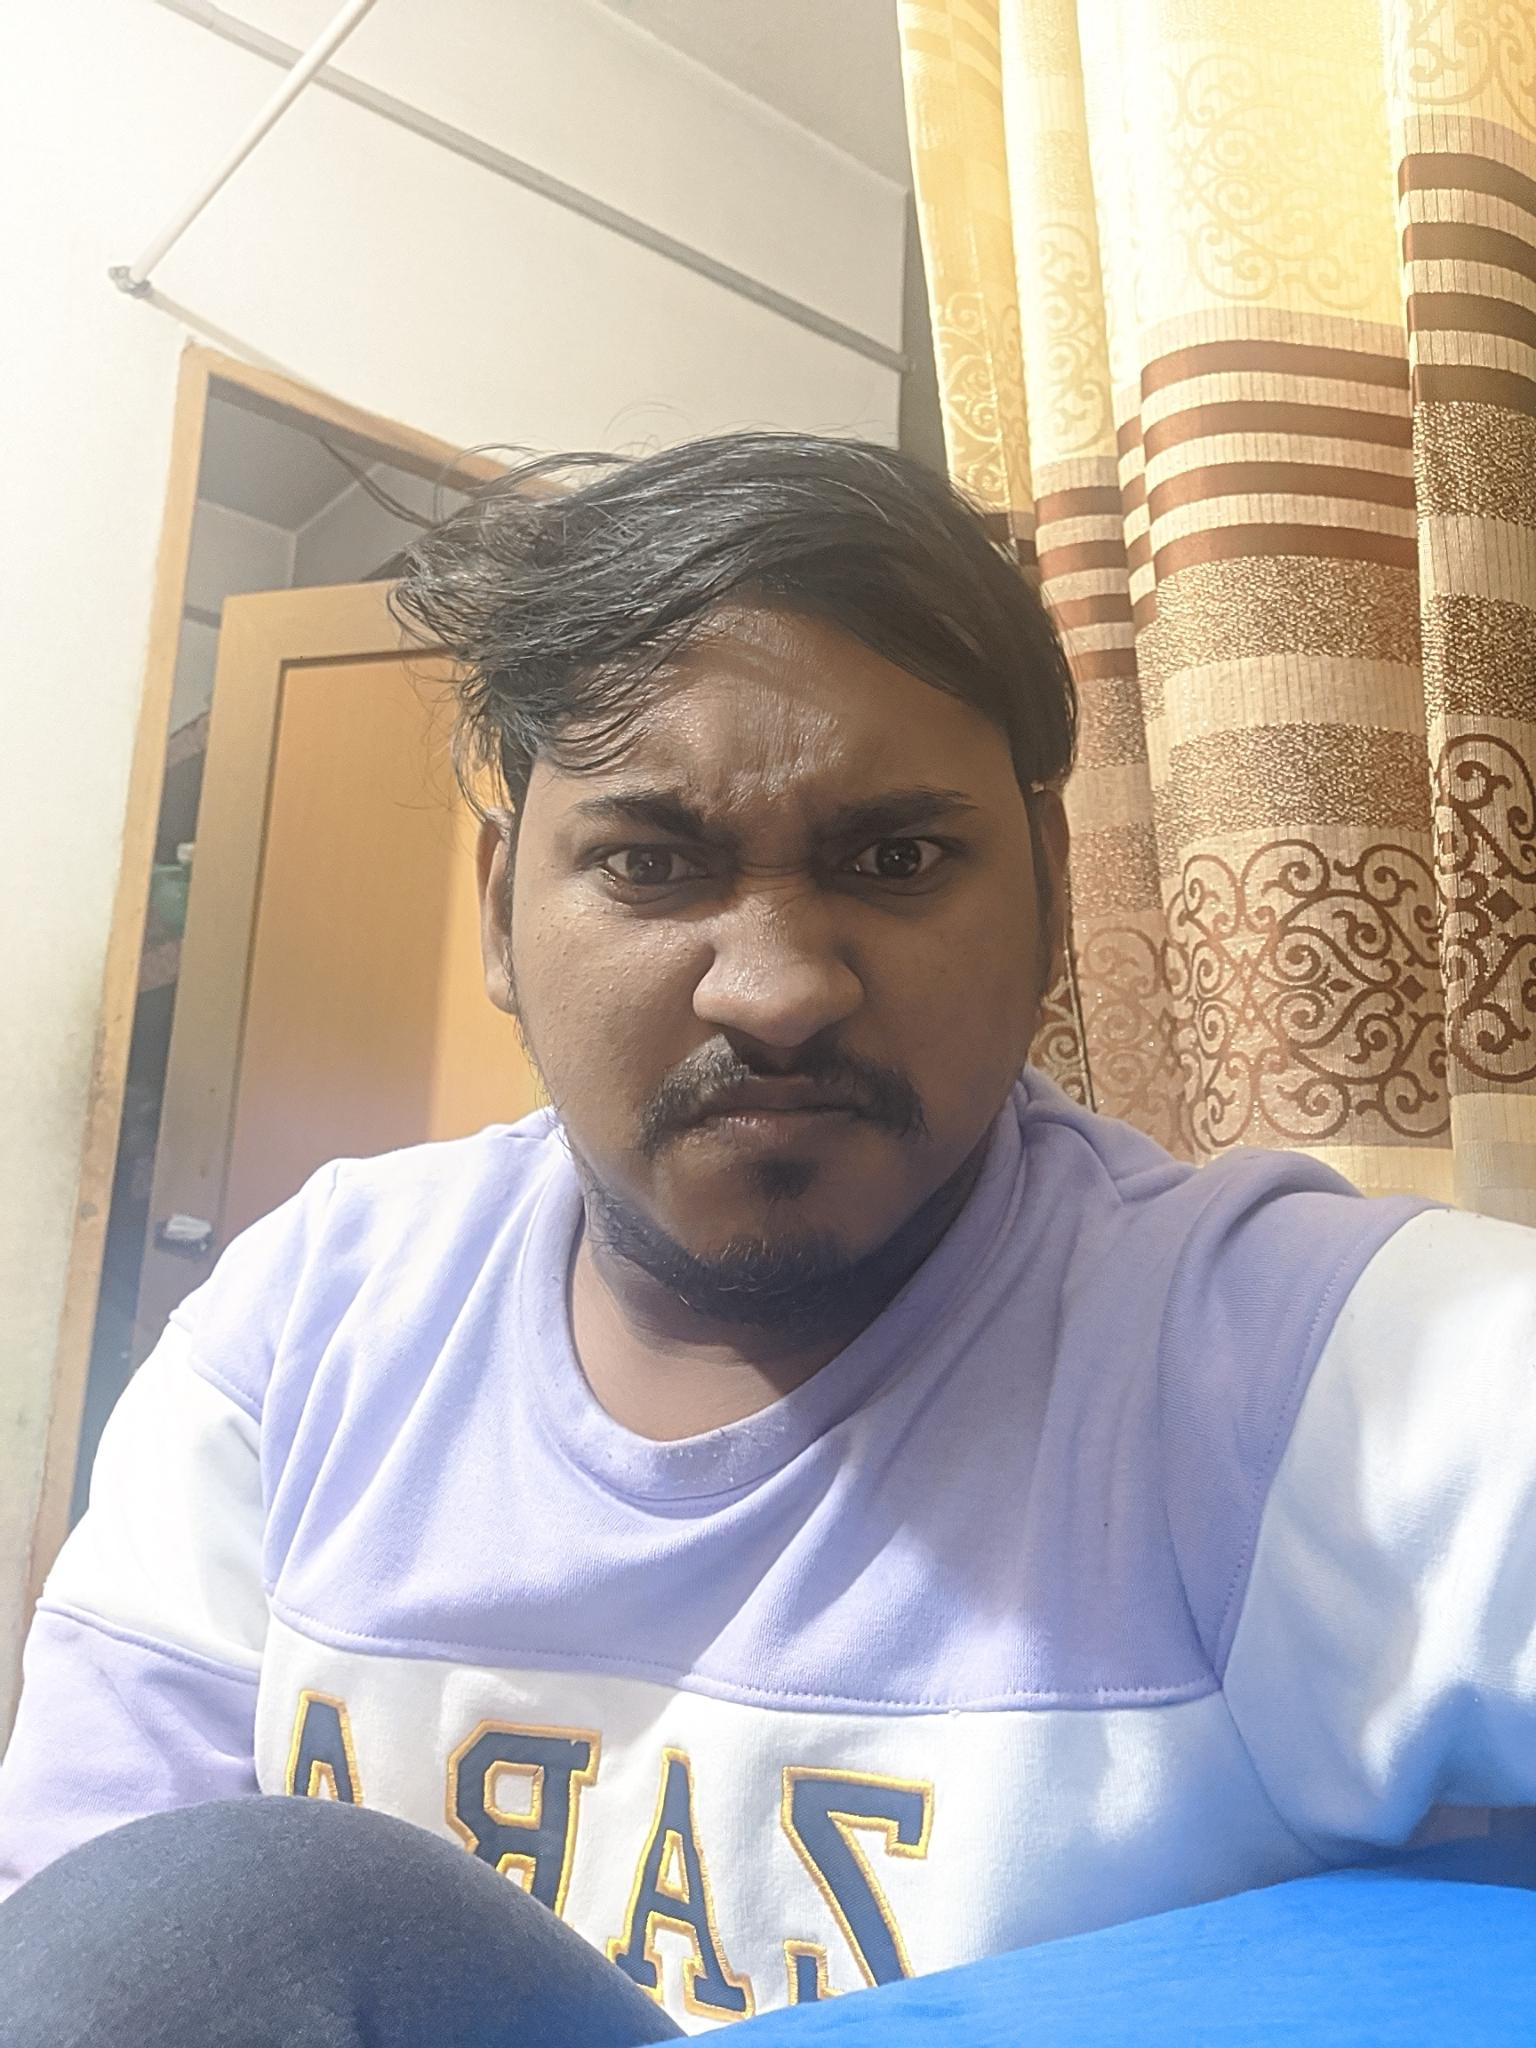Angry: (524, 671, 1055, 1301)
